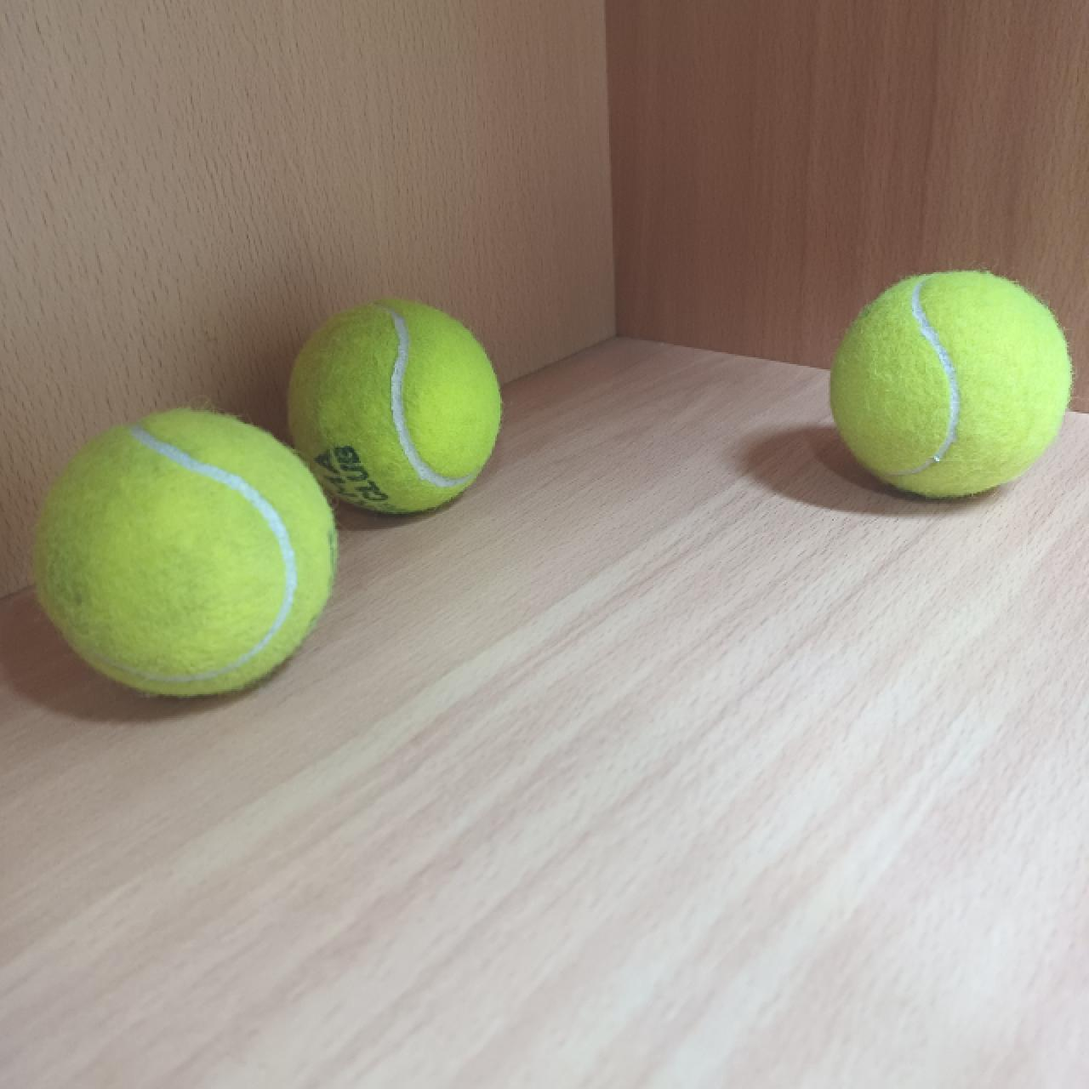tennis-ball: (31, 404, 339, 698), (829, 269, 1072, 498), (283, 300, 504, 518)
